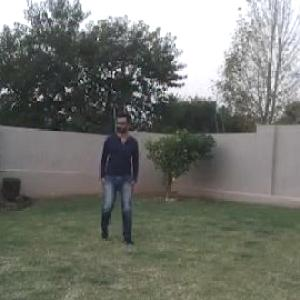follow: (94, 104, 144, 249)
